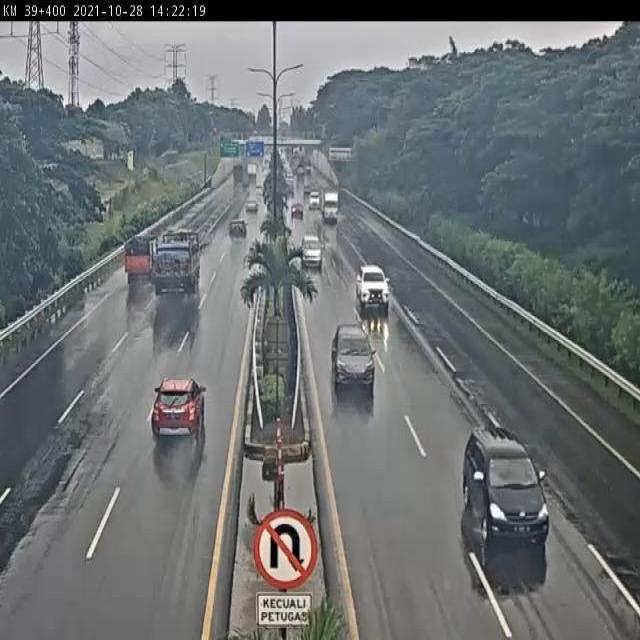car: (463, 427, 553, 552), (150, 378, 209, 442), (331, 322, 379, 390), (355, 263, 393, 313), (300, 232, 324, 268), (225, 217, 248, 243)
truck-l-: (149, 229, 202, 295)
truck-s-: (124, 234, 159, 278)
